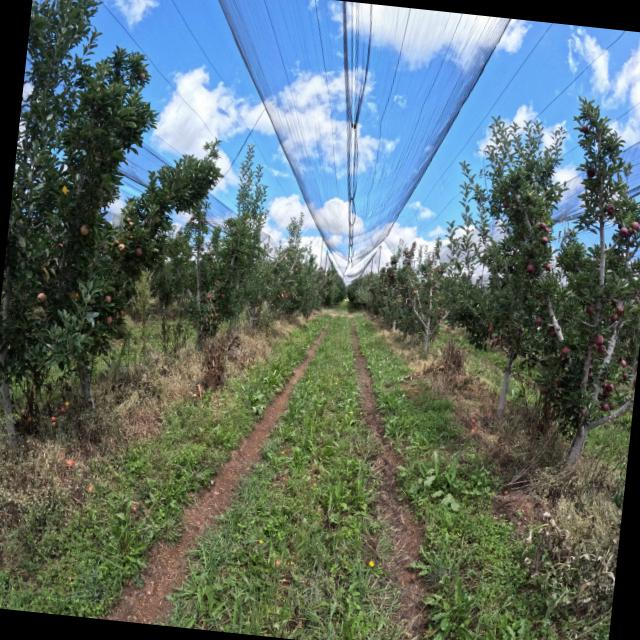-FireBlight-: (491, 334, 506, 348), (515, 326, 522, 337)
